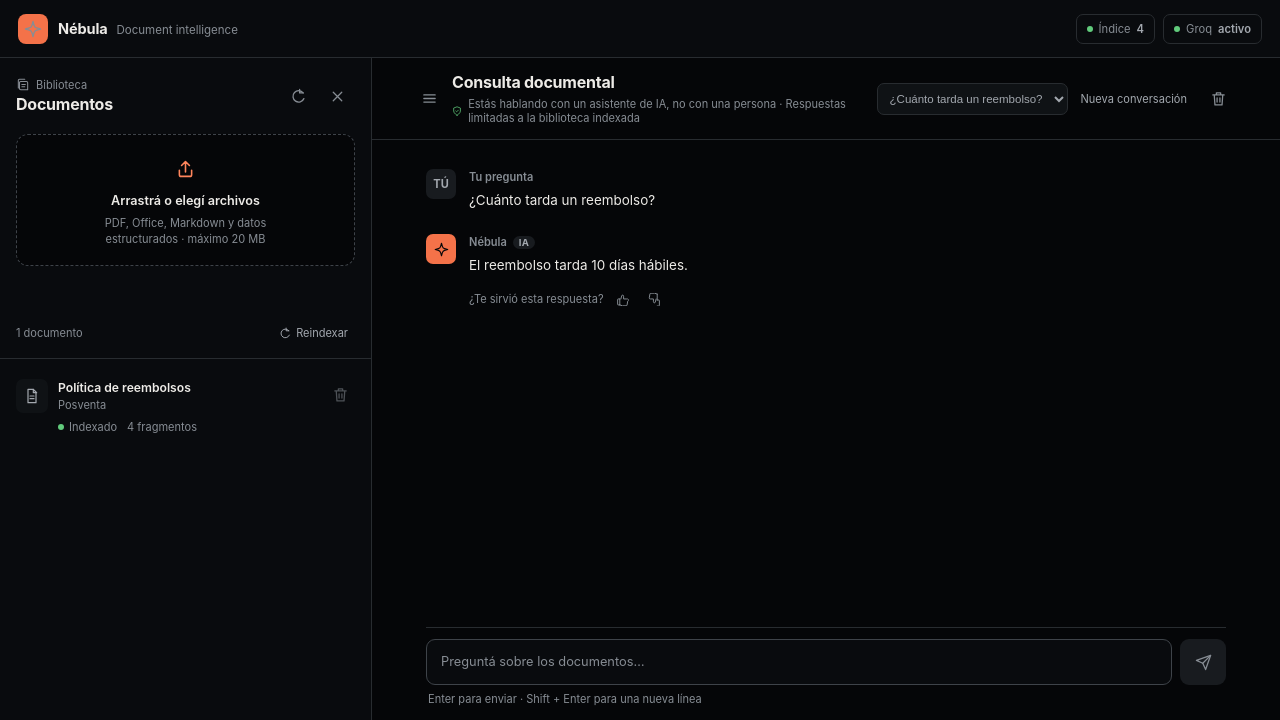
Nébula RAG workspace › resumes the persisted conversation and starts a new one without deleting it
The image size is (1280, 720).
Expected: the text "El reembolso tarda 10 días hábiles." is shown, top-left (469, 257), bottom-right (688, 273)
Expected: the dropdown named "Conversaciones guardadas" is shown, top-left (876, 82), bottom-right (1068, 114)
Step 1. Click the button "Nueva conversación" → [1134, 98], box top-left (1074, 82), bottom-right (1194, 114)
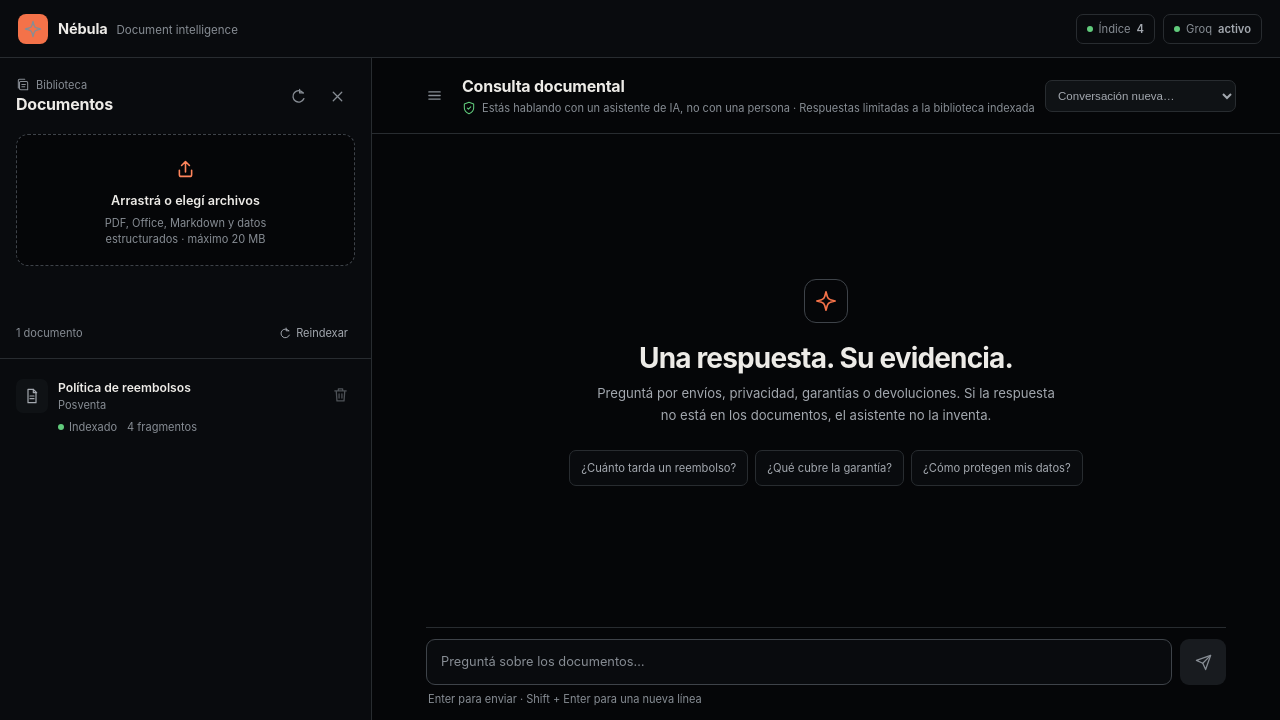
Now the text "El reembolso tarda 10 días hábiles." is gone
